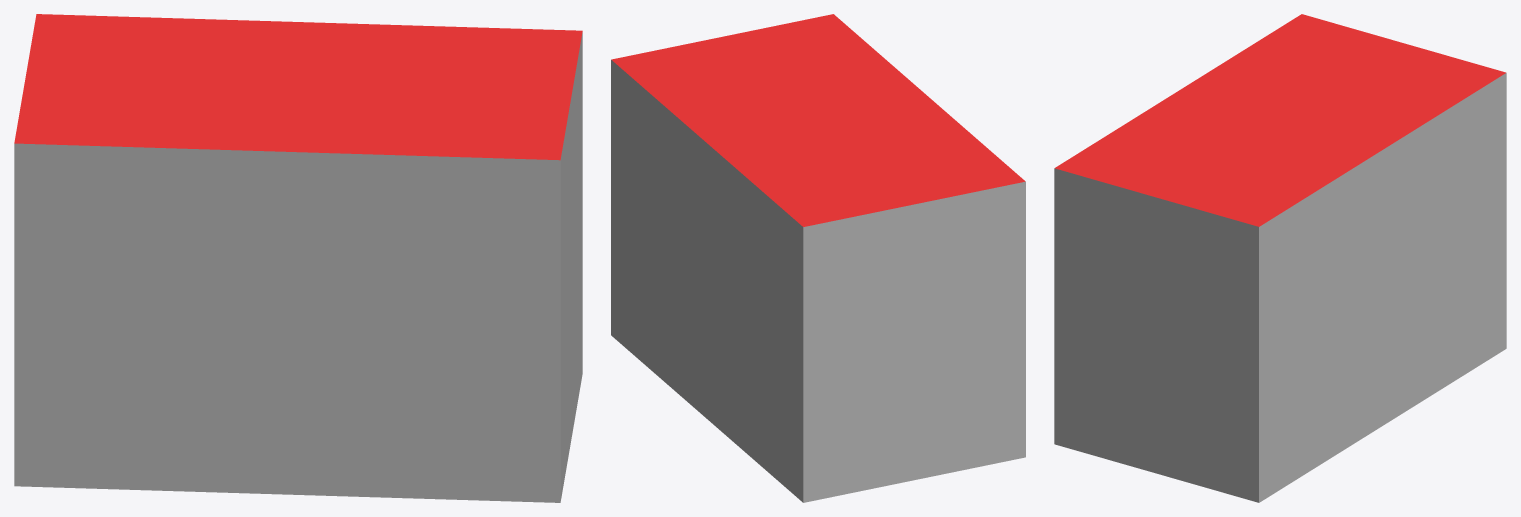
3 views of the same model, side by side, from view 1: azimuth 30°, elevation 25°; view 2: azimuth 150°, elevation 25°; view 3: azimuth 270°, elevation 25° (orthographic). The views are drawn at different scales.
Size of the model in its own units: 26.47 by 23.76 by 16.
